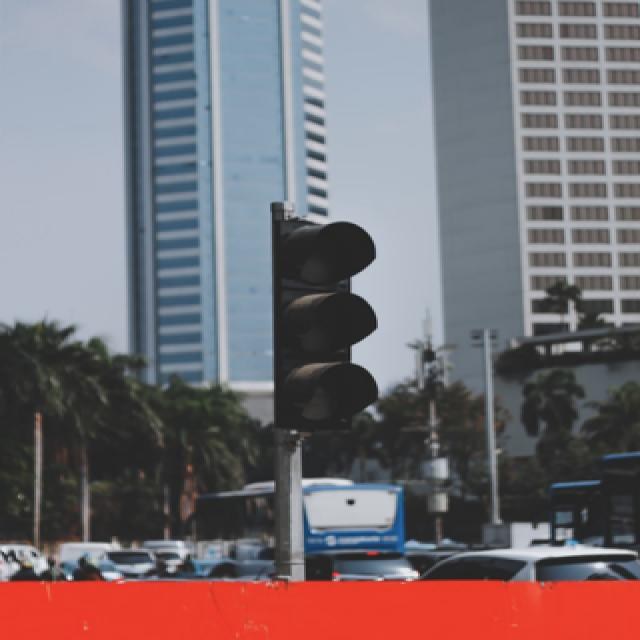trafficlight: (260, 214, 378, 432)
